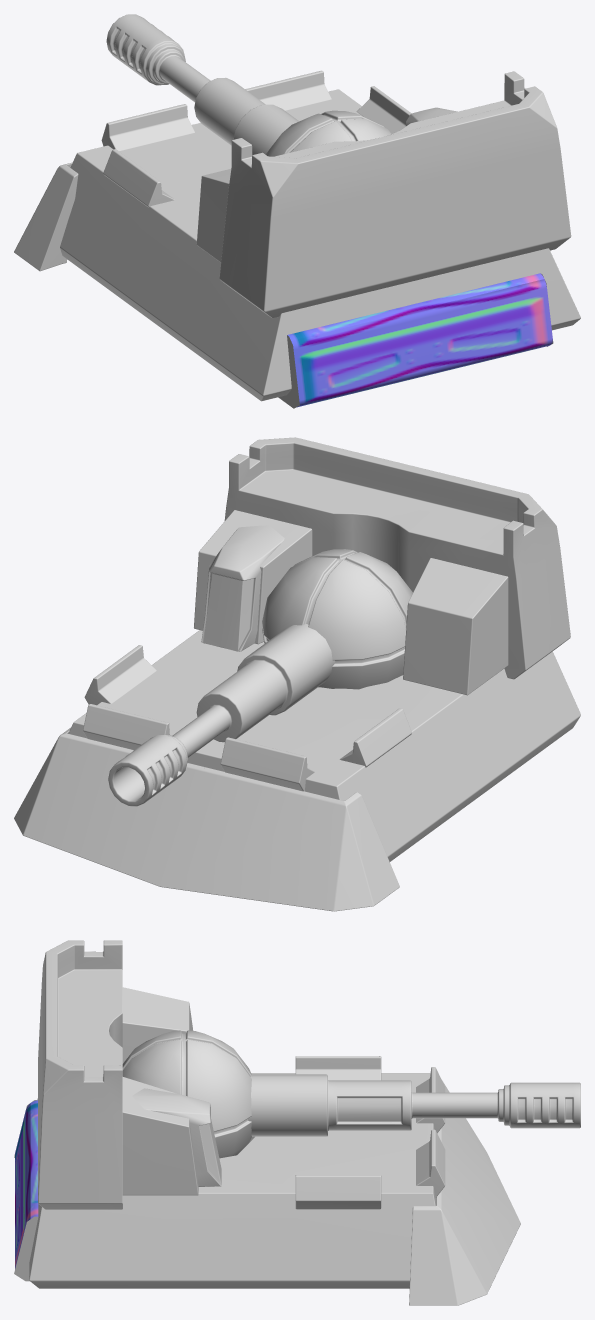
The model's file is Gladius.fbx.
The picture shows the model from 3 angles, top to bottom: view 1: azimuth 30°, elevation 25°; view 2: azimuth 150°, elevation 25°; view 3: azimuth 270°, elevation 25°; orthographic projection. The views are drawn at different scales.
Parts seen in each view (by area): view 1: Gladius, Gladius.001, Gladius_Cannon; view 2: Gladius, Gladius_Cannon; view 3: Gladius, Gladius_Cannon, Gladius.001.
Part boxes in pixels (x1,y1,x2,y2): Gladius: [14, 70, 580, 408]; Gladius.001: [287, 273, 552, 407]; Gladius_Cannon: [106, 14, 391, 156]; Gladius: [14, 437, 580, 911]; Gladius_Cannon: [108, 549, 412, 806]; Gladius: [14, 940, 520, 1305]; Gladius_Cannon: [122, 1030, 580, 1158]; Gladius.001: [15, 1100, 38, 1268].
Size of the model in its own units: 67.57 by 42.3 by 98.55.
